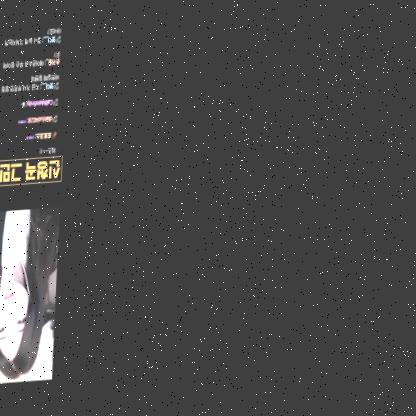streamer: (0, 208, 61, 380)
